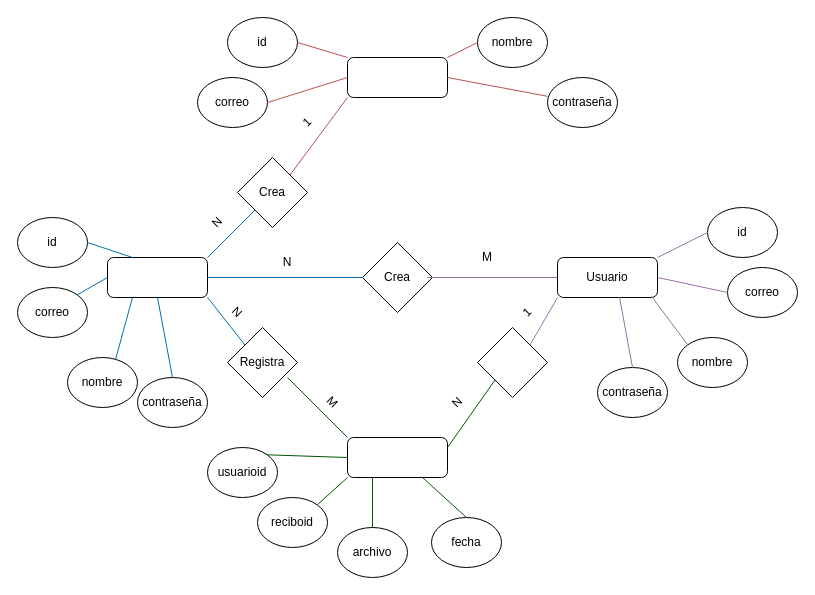
This 815x595 diagram has some shape labels left out. Here are the shapes that lost their labels. From the top down, the box of each, then its label:
(346, 56, 448, 98): SuperAdmin
(106, 256, 208, 298): Admin
(476, 326, 548, 398): Revisa
(346, 436, 448, 478): Recibo
